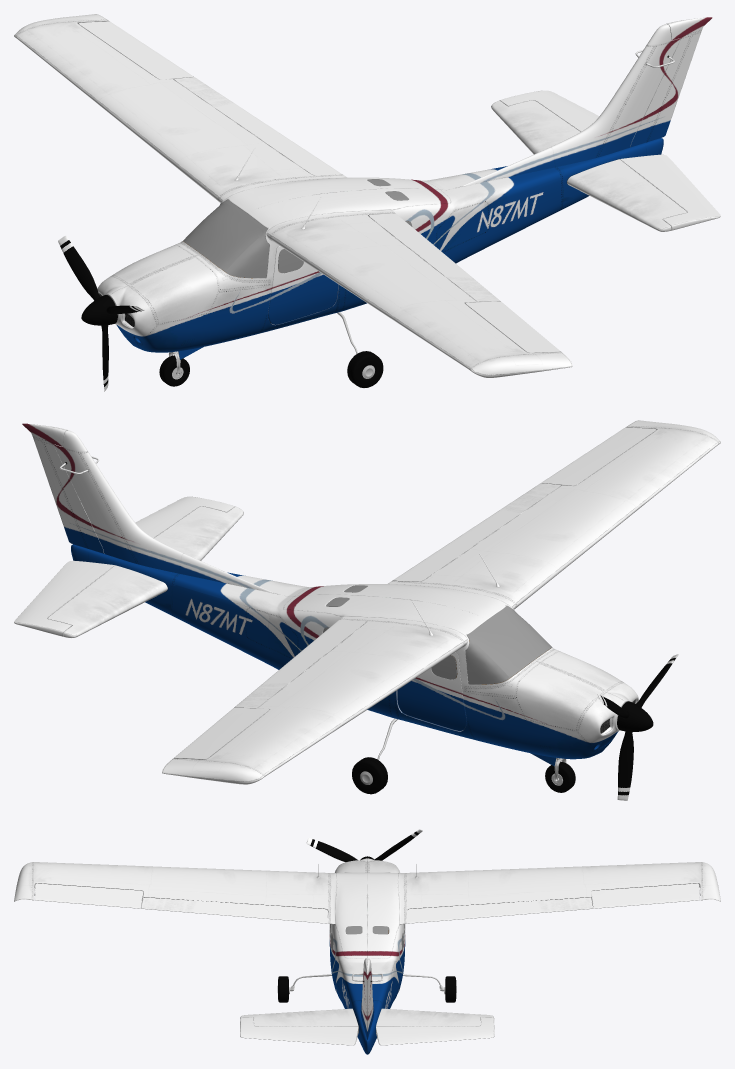
Rendered from Cessna 172.fbx.
3 views of the same model, one above another, from view 1: azimuth 30°, elevation 25°; view 2: azimuth 150°, elevation 25°; view 3: azimuth 270°, elevation 25° (orthographic). The views are drawn at different scales.
Parts seen in each view (by area): view 1: Fuselage, Propeller; view 2: Fuselage, Door, Propeller; view 3: Fuselage, Propeller.
Part boxes in pixels (<box>): Fuselage: <box>14,14,720,387</box>; Propeller: <box>58,236,144,391</box>; Fuselage: <box>14,420,720,794</box>; Door: <box>397,652,466,731</box>; Propeller: <box>597,654,678,800</box>; Fuselage: <box>14,858,720,1054</box>; Propeller: <box>306,829,422,862</box>.
Size of the model in its own units: 25.81 by 9.4 by 34.02.
